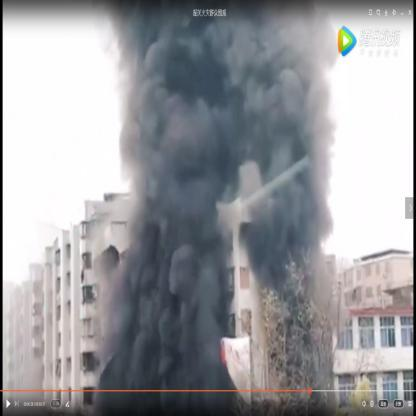smoke: (164, 2, 337, 200), (138, 201, 234, 389), (105, 3, 165, 201), (242, 181, 335, 283), (100, 212, 138, 390)
